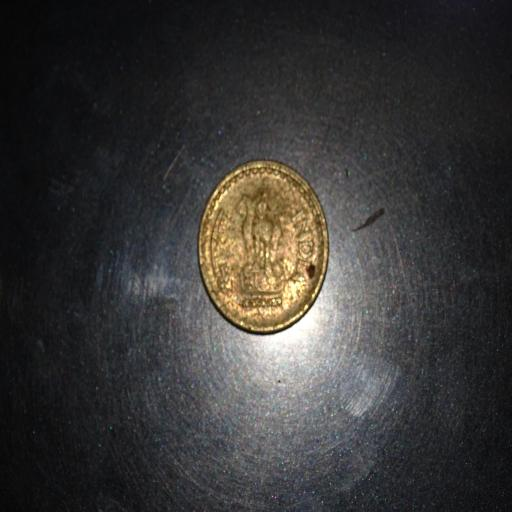rupee5: (196, 159, 330, 334)
